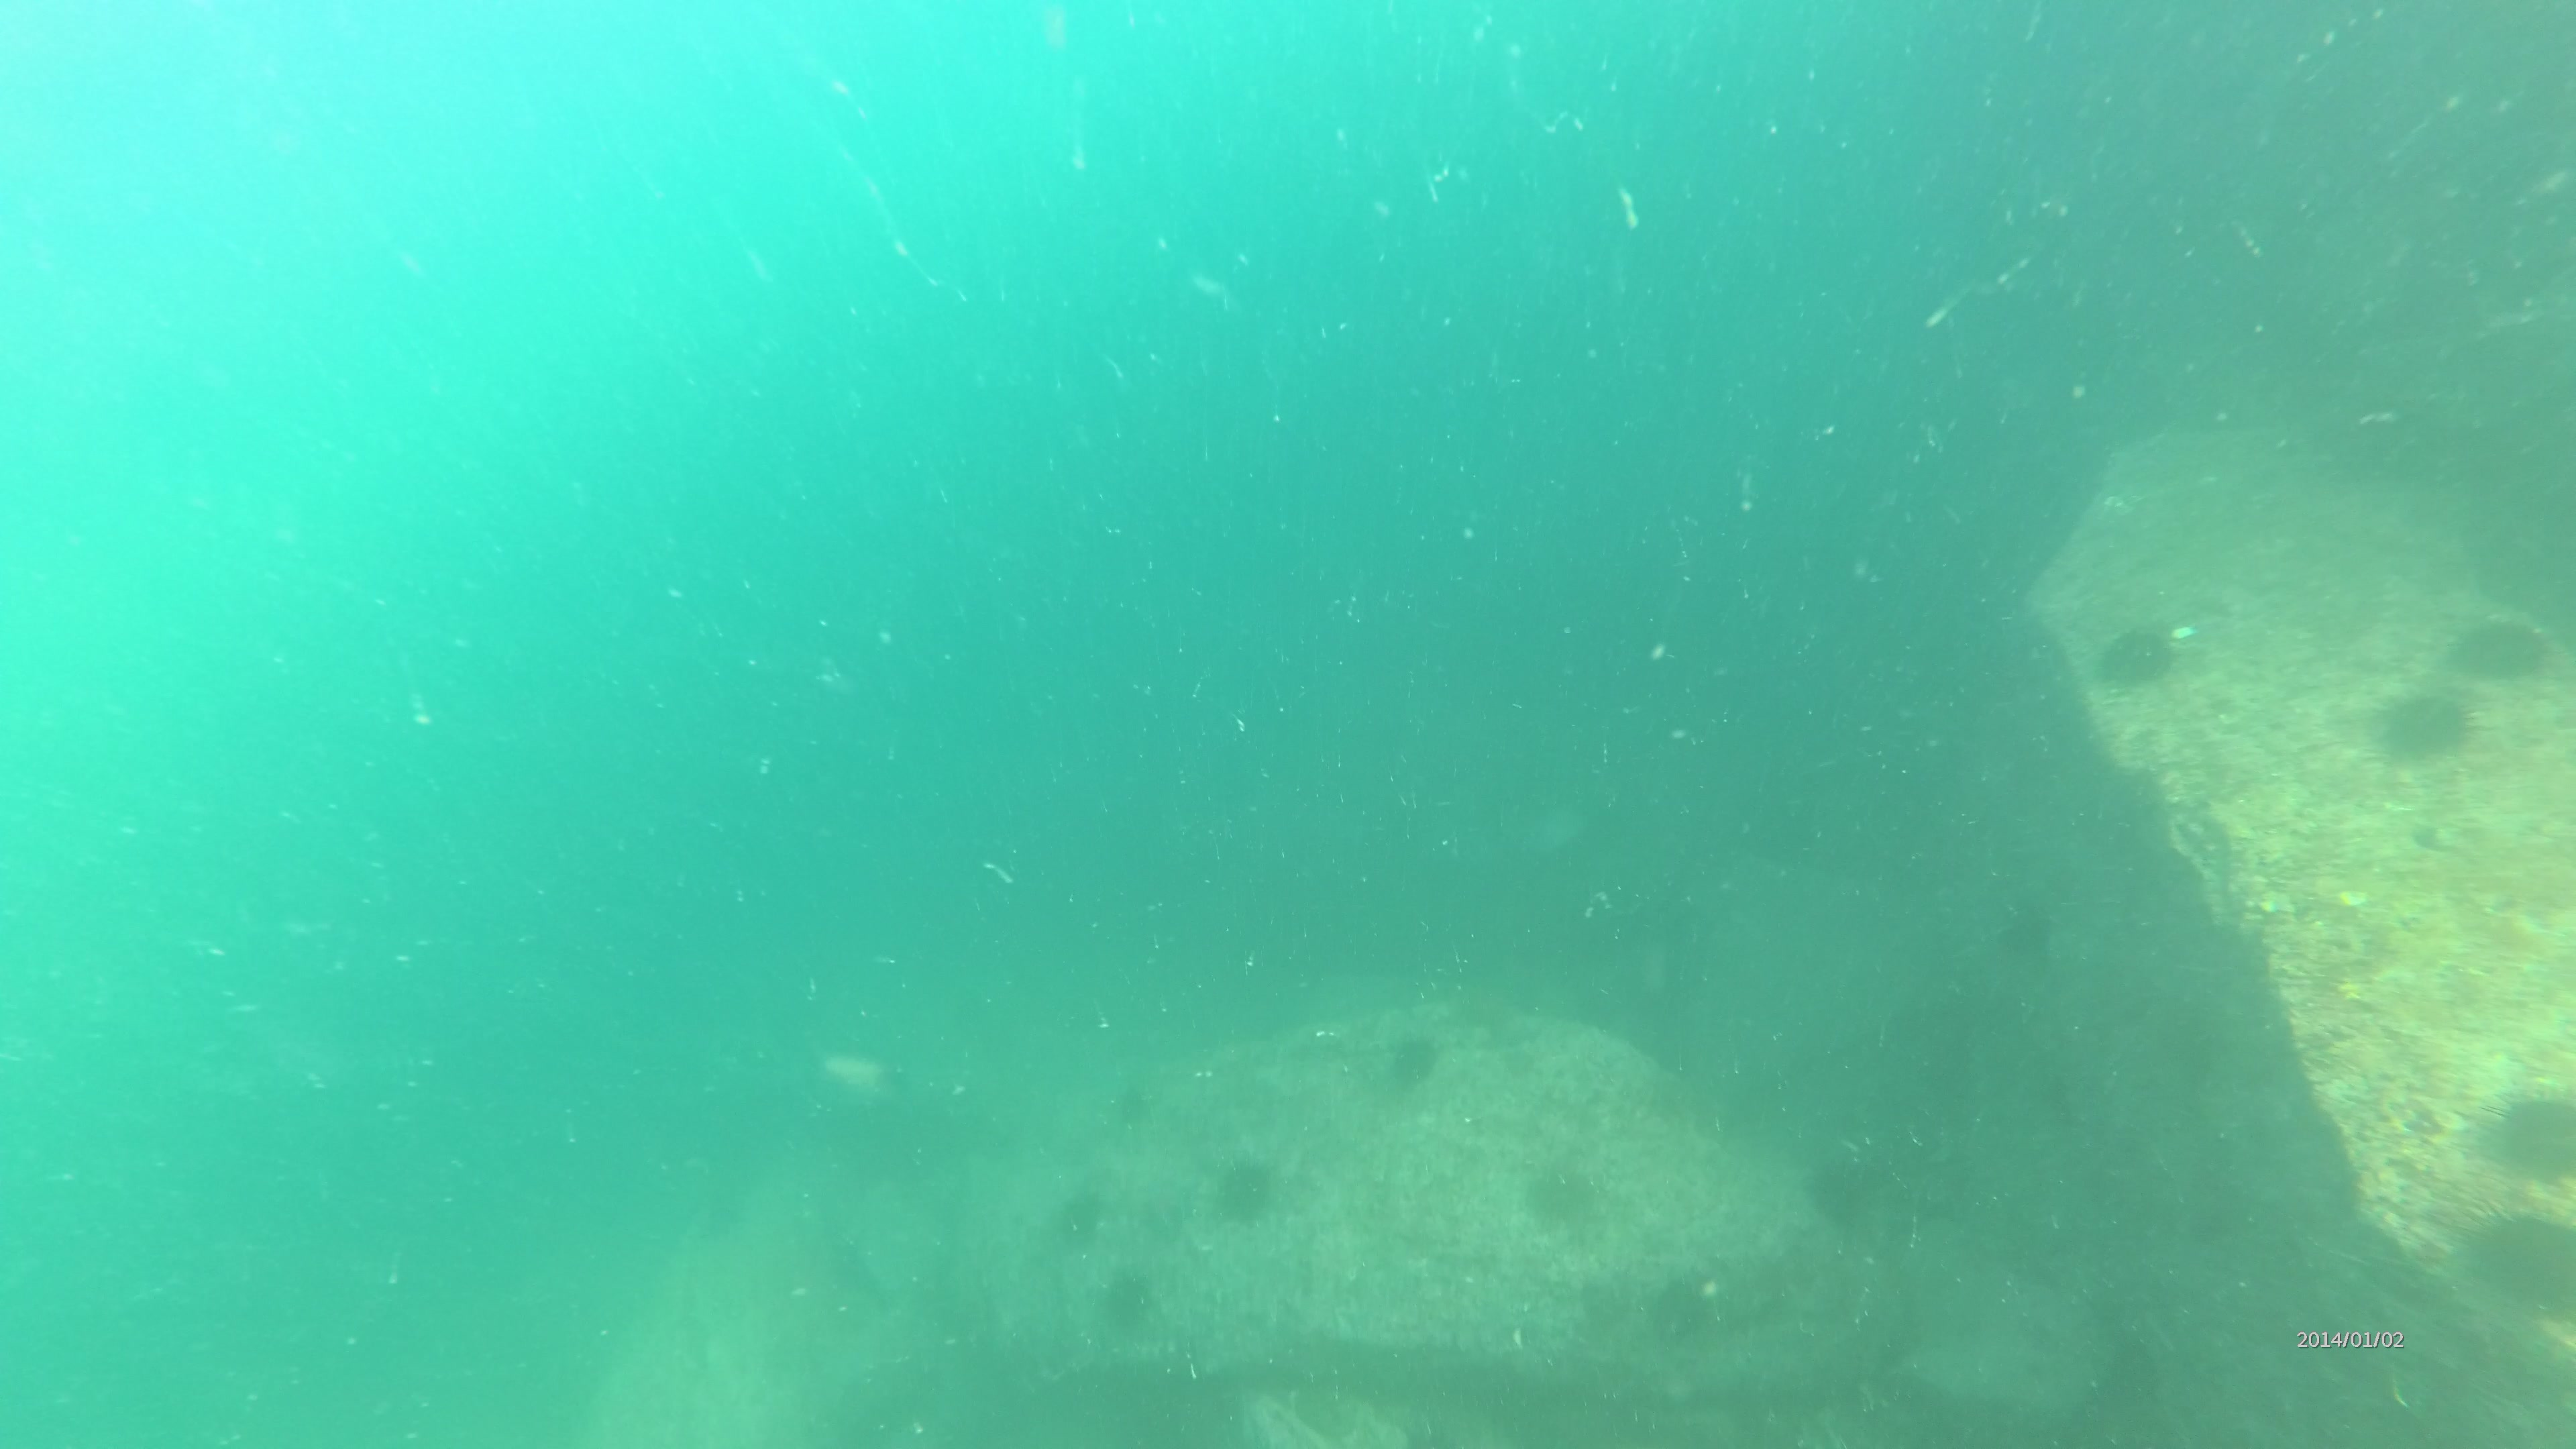echinus: (2445, 602, 2557, 676), (2479, 1085, 2576, 1169), (2088, 616, 2185, 695), (2381, 685, 2468, 761), (1529, 1143, 1596, 1224), (1214, 1166, 1269, 1226), (1047, 1189, 1102, 1246), (1097, 1267, 1146, 1322), (1387, 1039, 1438, 1083)
